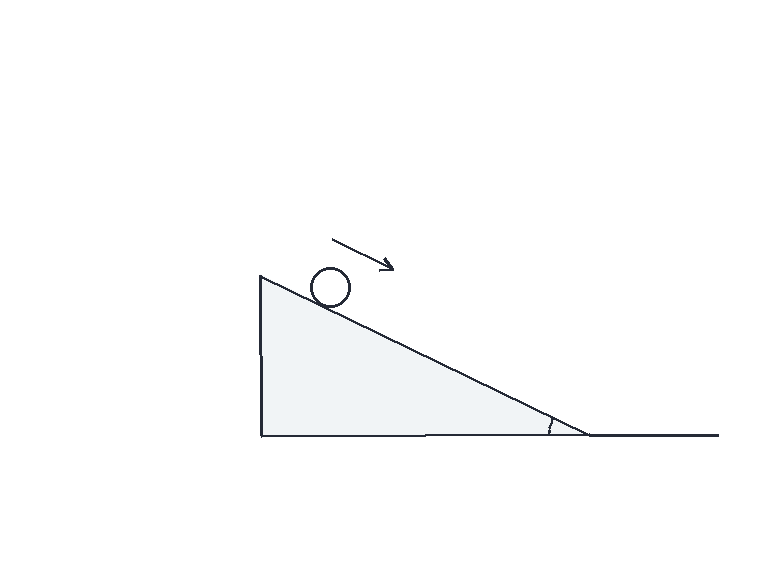ball: (308, 265, 352, 309)
ramp: (259, 273, 591, 437)
